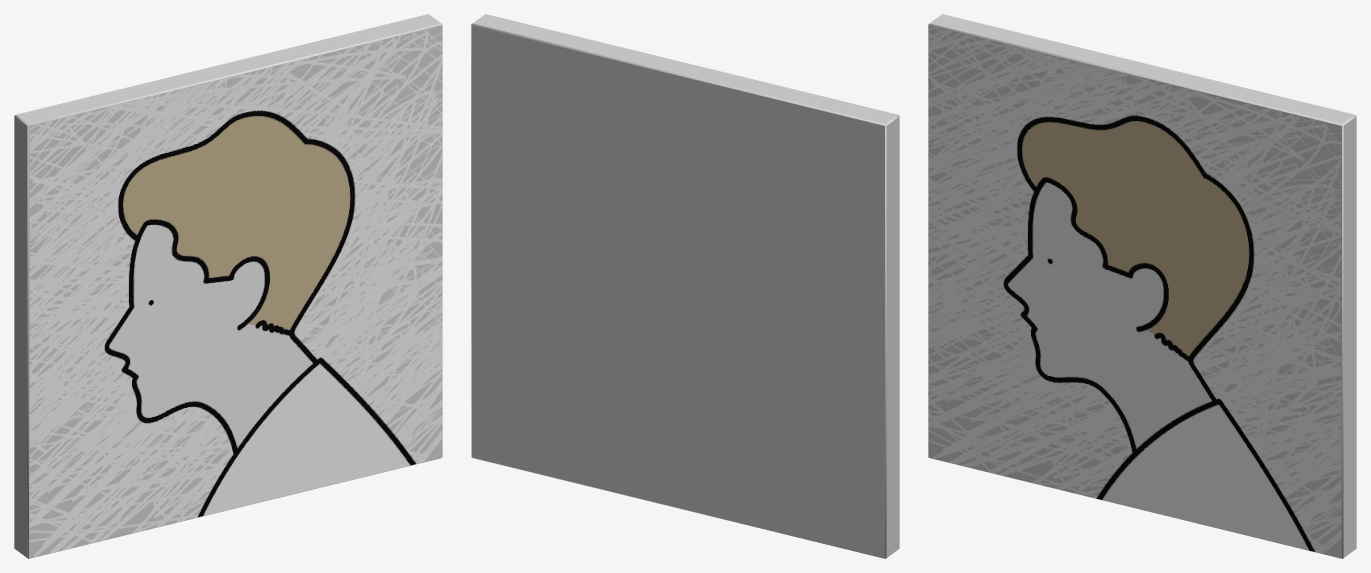
File: room07.glb
3 renders of one model, left to right at view 1: azimuth 30°, elevation 25°; view 2: azimuth 150°, elevation 25°; view 3: azimuth 330°, elevation 25°, orthographic.
Visible parts, largest first — view 1: tex, board; view 2: board; view 3: tex, board.
Part boxes in pixels (x1,y1,x2,y2): tex: [29, 25, 442, 558]; board: [14, 14, 442, 558]; board: [471, 14, 899, 558]; tex: [928, 25, 1341, 558]; board: [928, 14, 1356, 558].
Size of the model in its own units: 0.335 by 0.335 by 0.0205.
Materials: 2 (1 with a texture image).
